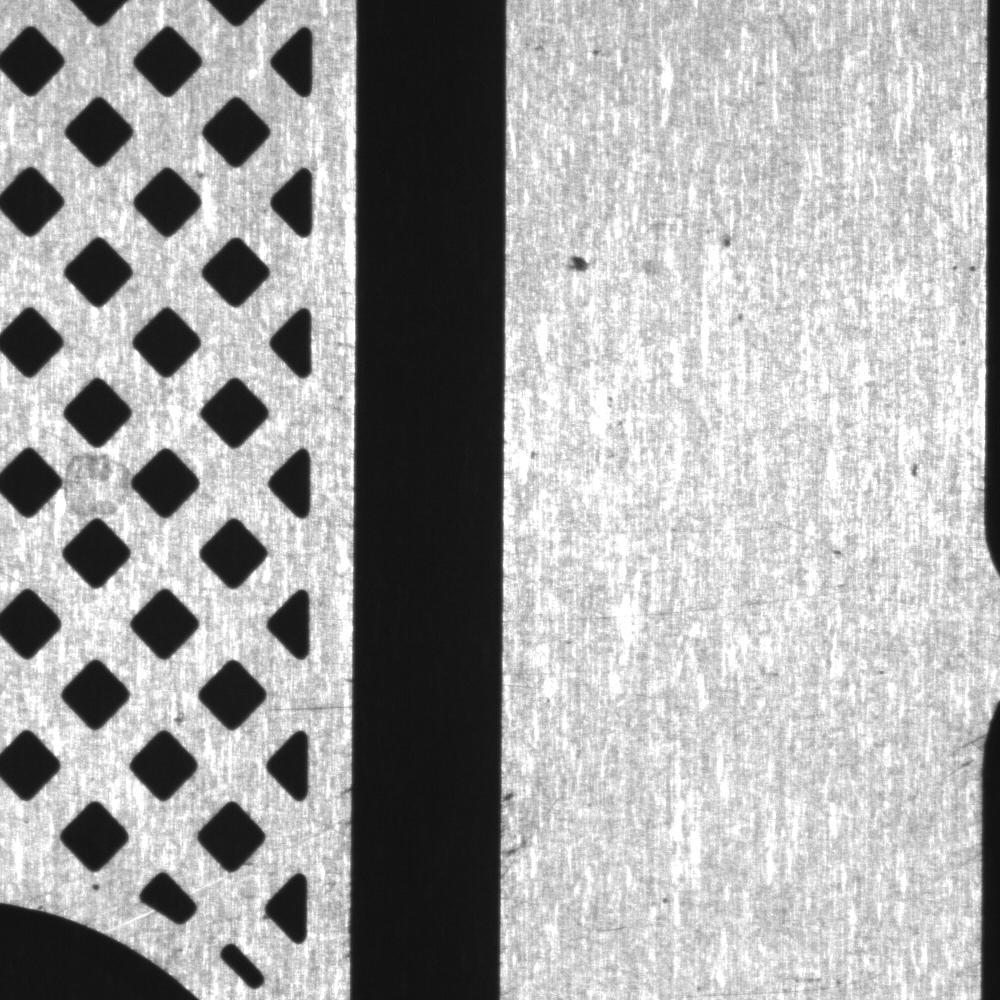Discolor: (49, 438, 144, 529)
Etching: (947, 723, 989, 873), (501, 781, 538, 863), (561, 236, 608, 288), (892, 446, 938, 489)
Pinhole: (643, 880, 685, 916), (958, 249, 986, 289), (721, 301, 756, 330), (583, 34, 612, 64), (716, 220, 741, 254)
Scar: (502, 579, 878, 630), (524, 514, 800, 539), (267, 813, 341, 862), (262, 697, 355, 718)
